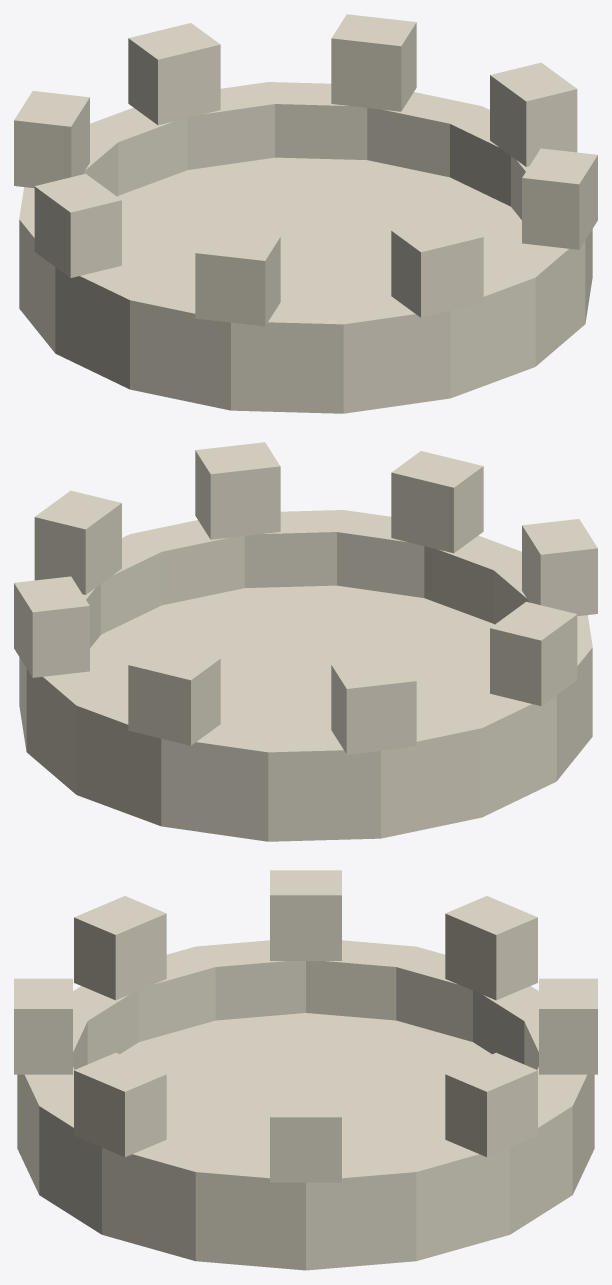
File: round-tower-battlement.glb
The picture shows the model from 3 angles, top to bottom: view 1: azimuth 30°, elevation 25°; view 2: azimuth 150°, elevation 25°; view 3: azimuth 270°, elevation 25°; orthographic projection.
Visible parts, largest first — view 1: round-tower-battlement; view 2: round-tower-battlement; view 3: round-tower-battlement.
Boxes of the visible parts, x1,y1,x2,y2 form: round-tower-battlement: (14,14,597,413); round-tower-battlement: (14,442,597,841); round-tower-battlement: (14,870,597,1270).
Bounding box in the file's own units: 4.45 × 1.3 × 4.45.
